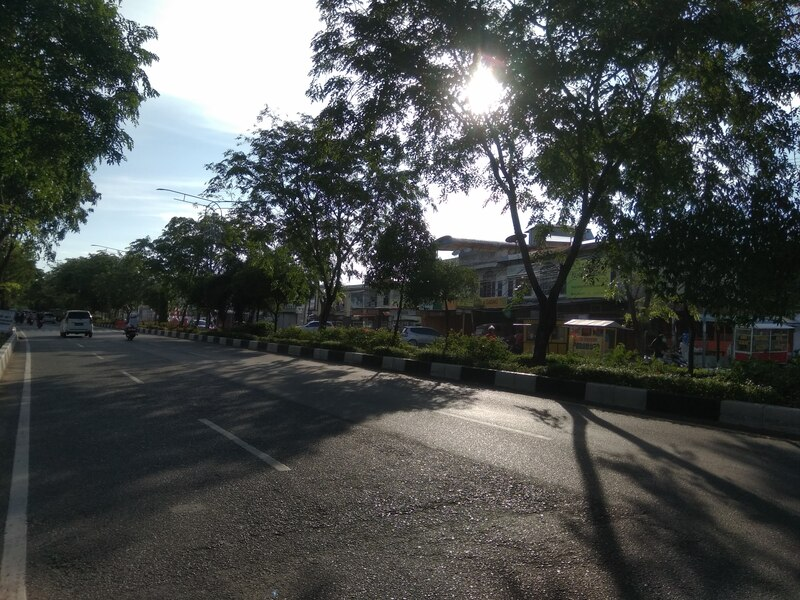car: (57, 308, 99, 342), (399, 324, 449, 349), (299, 319, 335, 334)
motorcycle: (122, 317, 141, 340)
